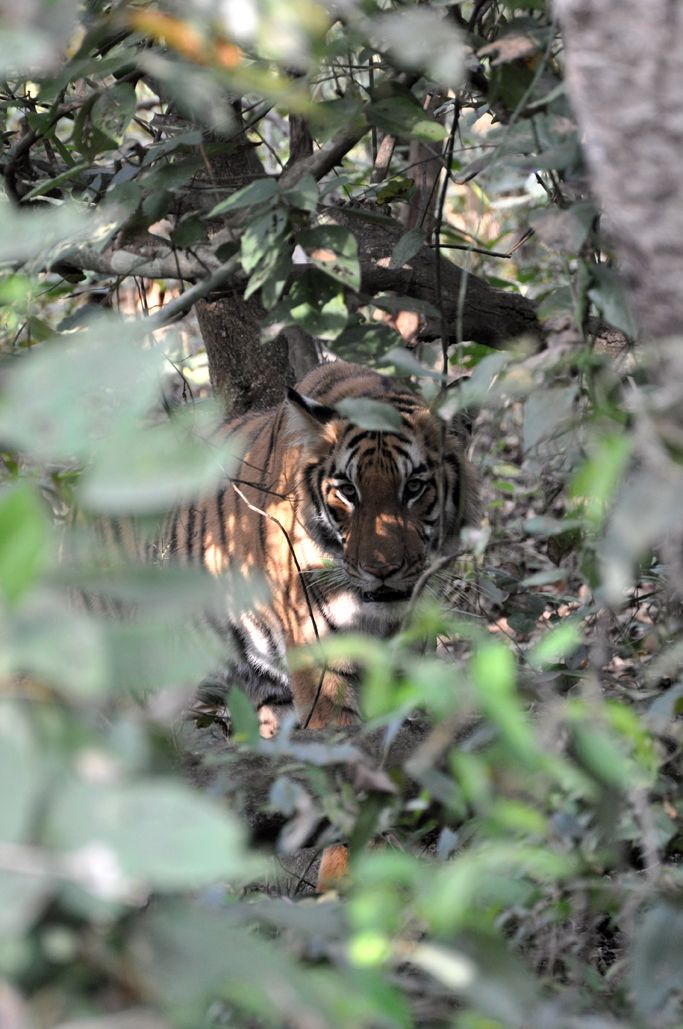cat: (40, 310, 509, 830)
